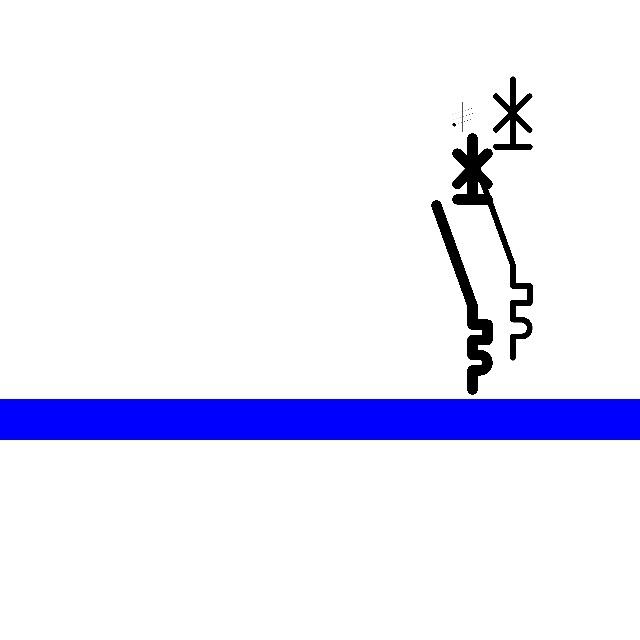interruptor_termomagnetico: (465, 72, 537, 365), (430, 131, 494, 395)
